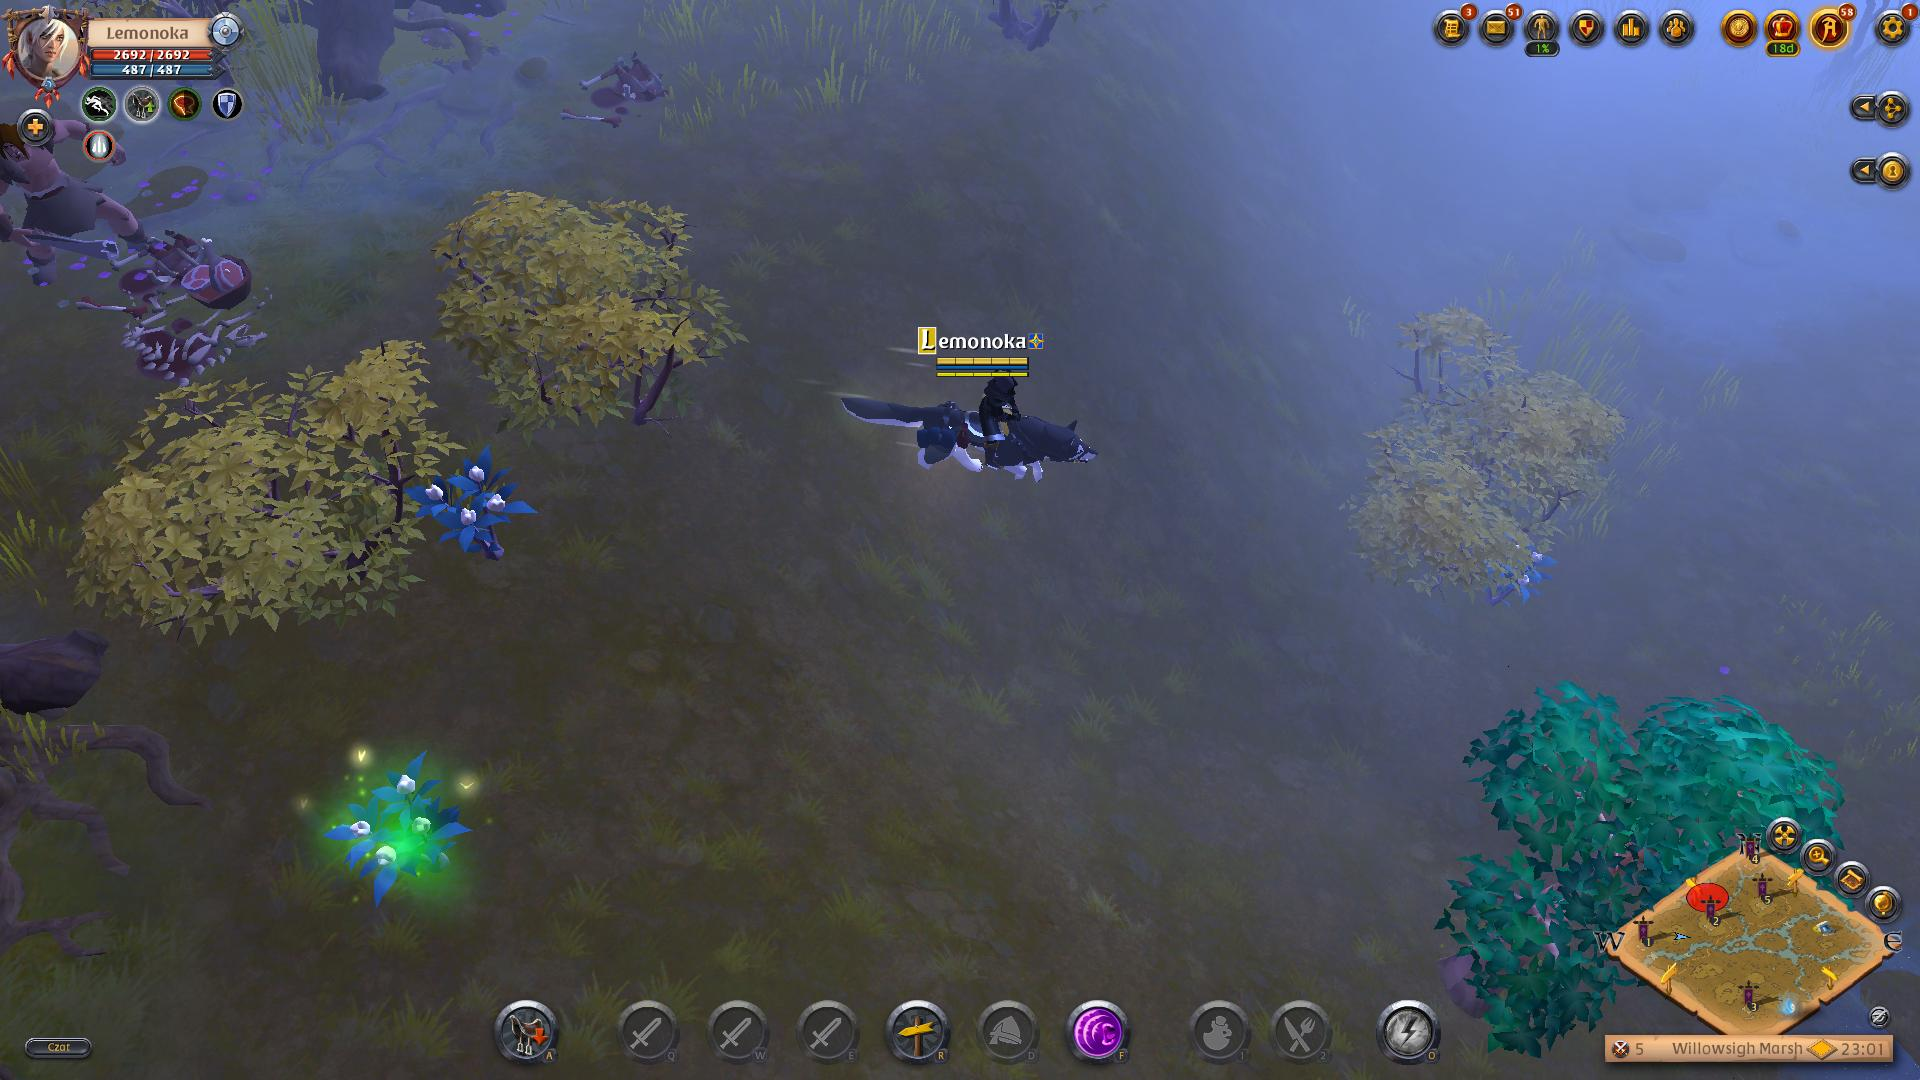fiber tier 4: (324, 758, 472, 907), (419, 447, 535, 562)
